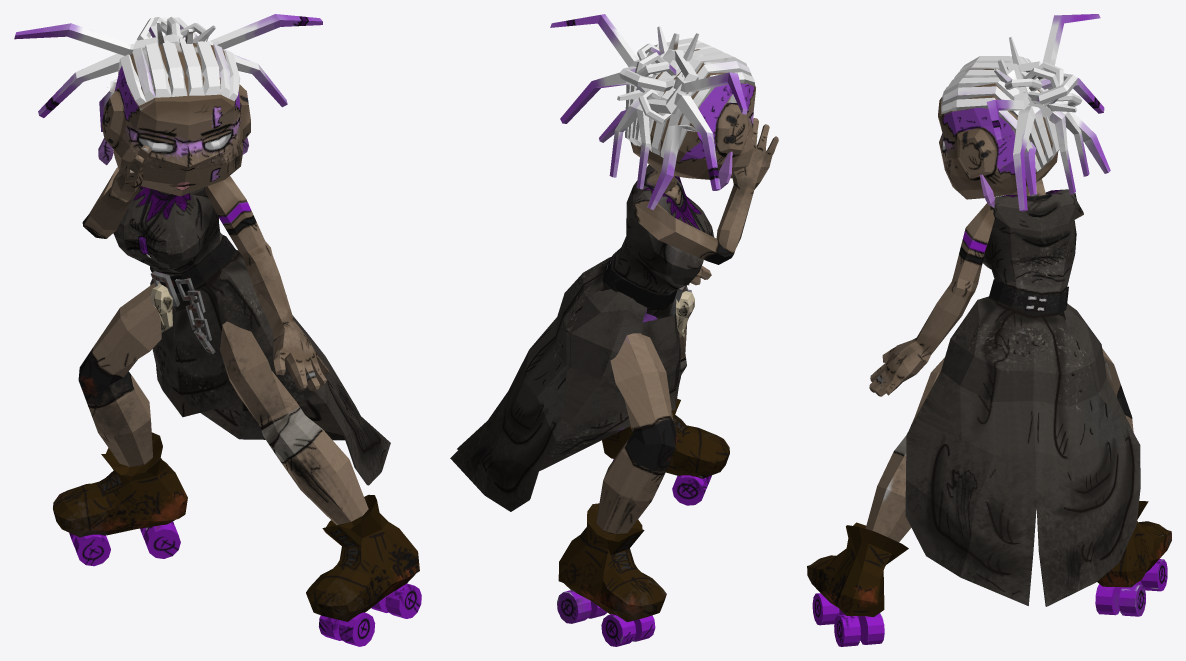
File: bruja_000020.obj
3 views of the same model, side by side, from view 1: azimuth 30°, elevation 25°; view 2: azimuth 150°, elevation 25°; view 3: azimuth 270°, elevation 25° (orthographic). The views are drawn at different scales.
Visible parts, largest first — view 1: Bruja_Plane.001; view 2: Bruja_Plane.001; view 3: Bruja_Plane.001.
Boxes of the visible parts, left/top/right/bottom form: Bruja_Plane.001: left=14, top=14, right=421, bottom=646; Bruja_Plane.001: left=450, top=14, right=778, bottom=646; Bruja_Plane.001: left=807, top=14, right=1171, bottom=646.
Bounding box in the file's own units: 9.35 × 15.44 × 9.24.
